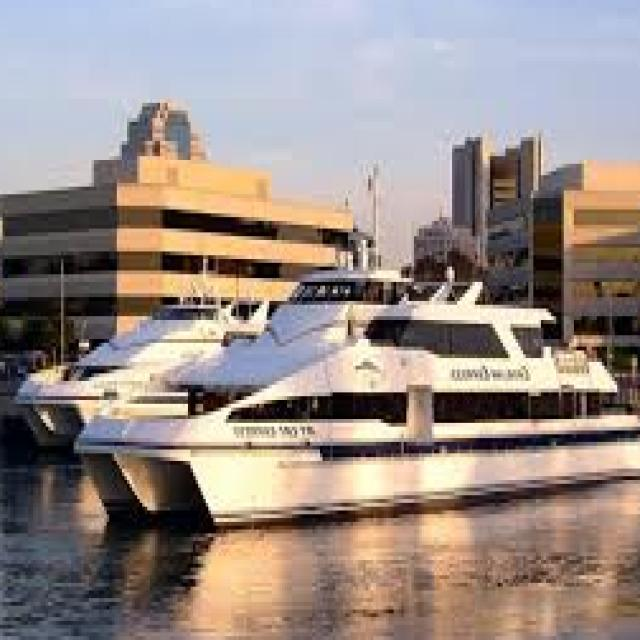houseboat: (94, 240, 640, 526), (21, 266, 276, 432), (179, 244, 406, 408)
